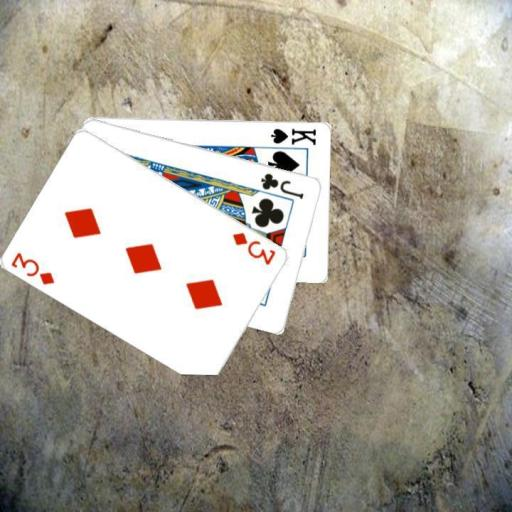card-corner: (229, 229, 278, 267), (8, 249, 56, 286), (258, 169, 306, 201), (268, 124, 318, 146)
